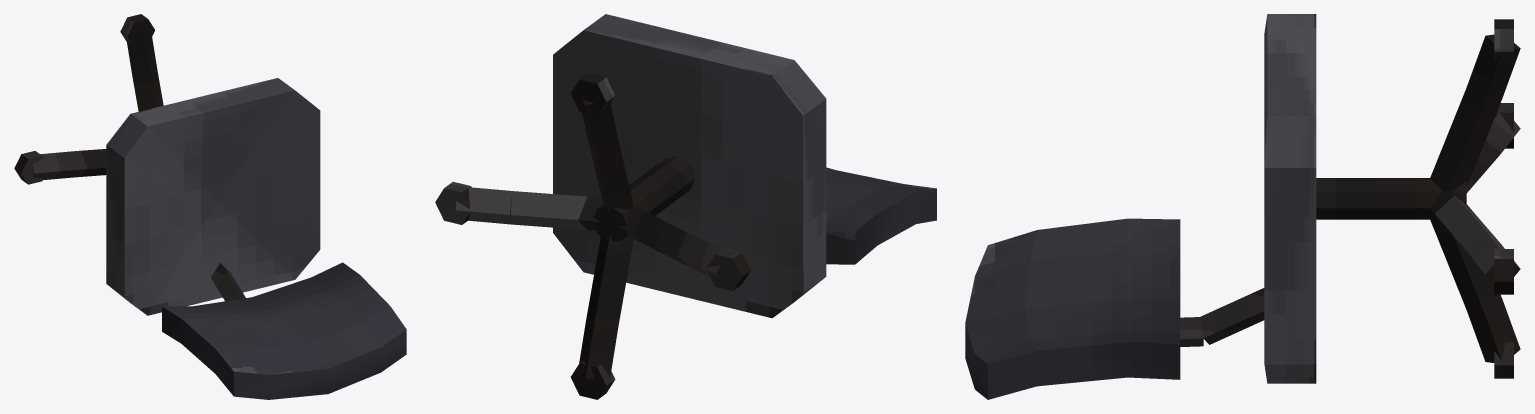
The model's file is pz_chair_seating_indoor_01_black_office_fidelity_r1.obj.
3 views of the same model, side by side, from view 1: azimuth 30°, elevation 25°; view 2: azimuth 150°, elevation 25°; view 3: azimuth 270°, elevation 25° (orthographic). The views are drawn at different scales.
Parts seen in each view (by area): view 1: seat, back, frame; view 2: seat, frame, back; view 3: back, frame, seat.
Part boxes in pixels (<box>): seat: <box>106,78,320,315</box>; back: <box>162,262,406,399</box>; frame: <box>14,14,245,301</box>; seat: <box>553,14,826,318</box>; frame: <box>435,73,750,399</box>; back: <box>826,167,936,264</box>; back: <box>965,218,1180,399</box>; frame: <box>1180,19,1520,378</box>; seat: <box>1264,14,1316,383</box>.
Size of the model in its own units: 0.6226 by 0.6128 by 0.8823.
1 material, 1 textured.
